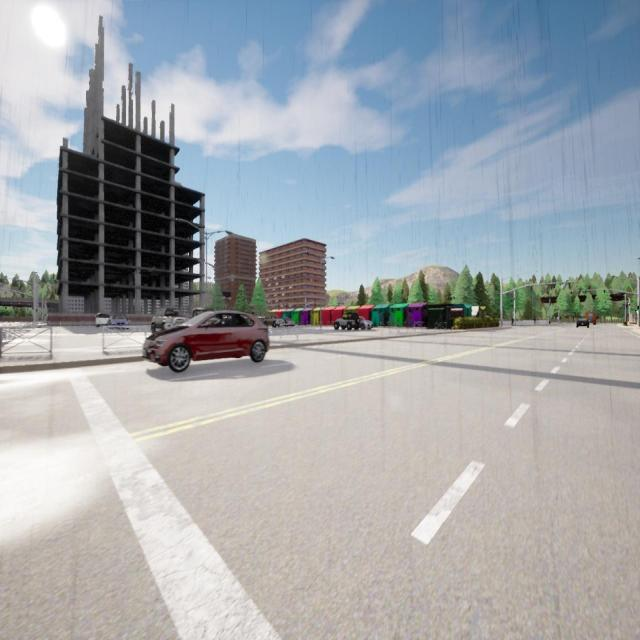Pedestrian: (534, 316, 536, 326), (512, 318, 514, 327)
Vehicle: (143, 311, 268, 371), (151, 308, 187, 332), (334, 314, 359, 329), (112, 313, 128, 329), (261, 314, 276, 327), (96, 313, 108, 326), (360, 316, 372, 329), (576, 317, 588, 328), (585, 312, 596, 324), (278, 319, 294, 327)
traffic_light: (637, 306, 639, 312), (550, 284, 552, 290), (585, 291, 587, 296), (569, 283, 571, 288), (531, 286, 532, 292), (604, 290, 605, 294), (571, 292, 572, 296)
